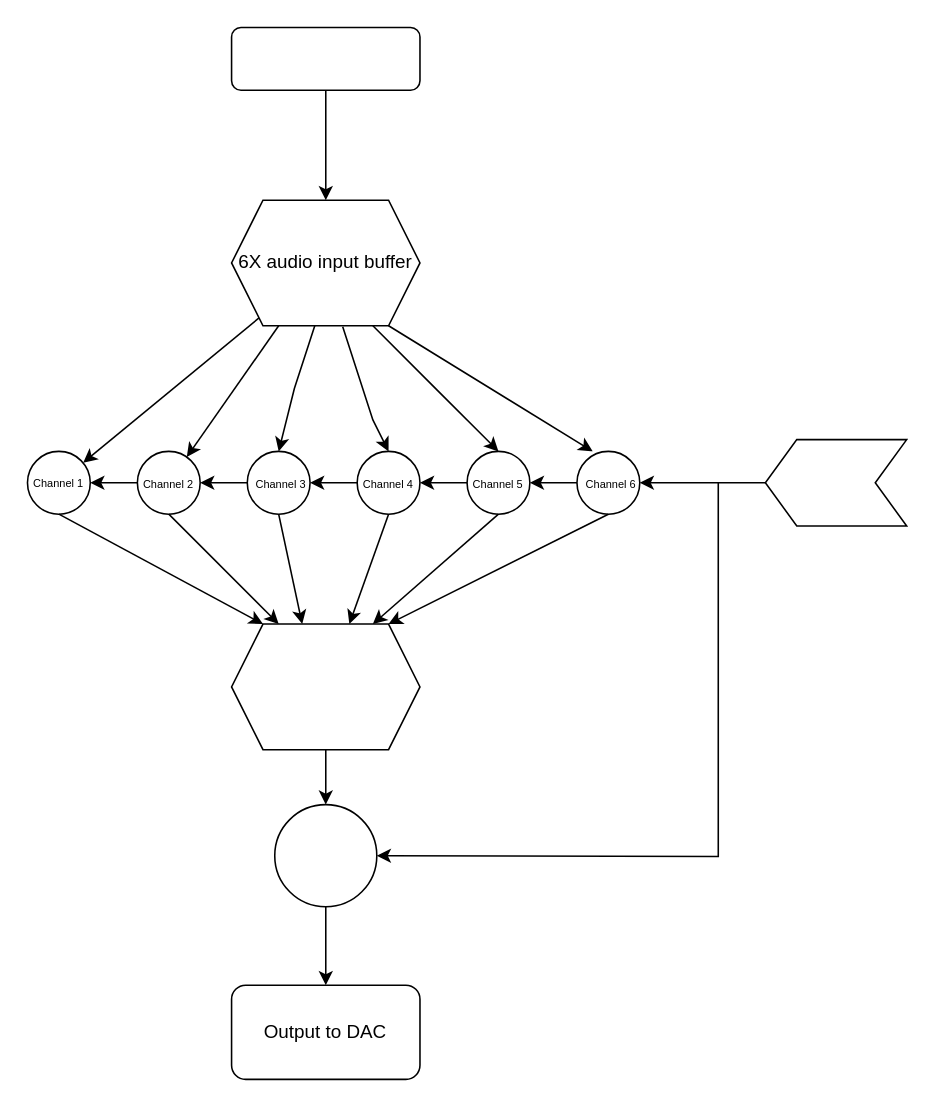
This 934x1107 diagram has some shape labels left out. Each missing label, with the box of its shape:
Audio input form ADC: (230, 26, 420, 90)
Master Audio buffer: (230, 623, 420, 750)
Master effects Channel: (273, 803, 377, 907)
user control: (764, 438, 907, 526)
